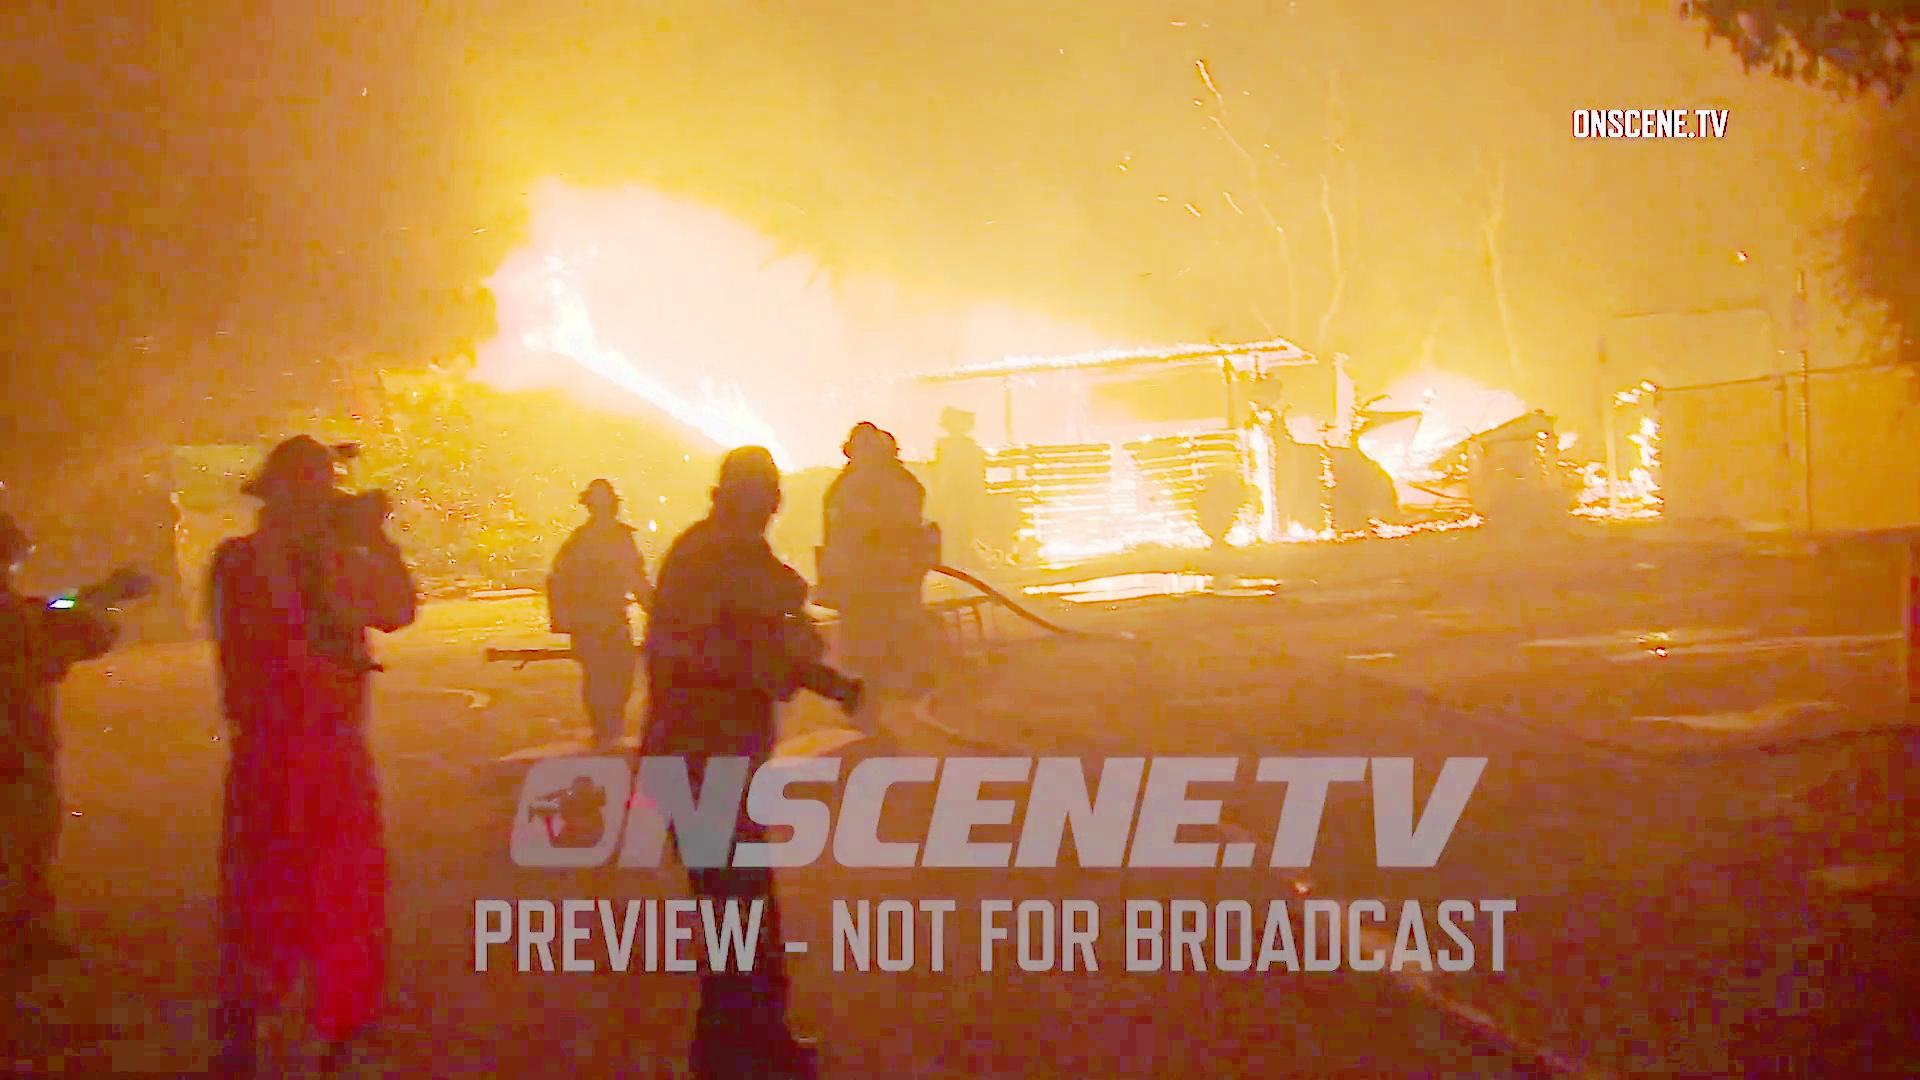fire: (510, 237, 653, 385), (1030, 443, 1203, 554), (645, 381, 815, 454)
